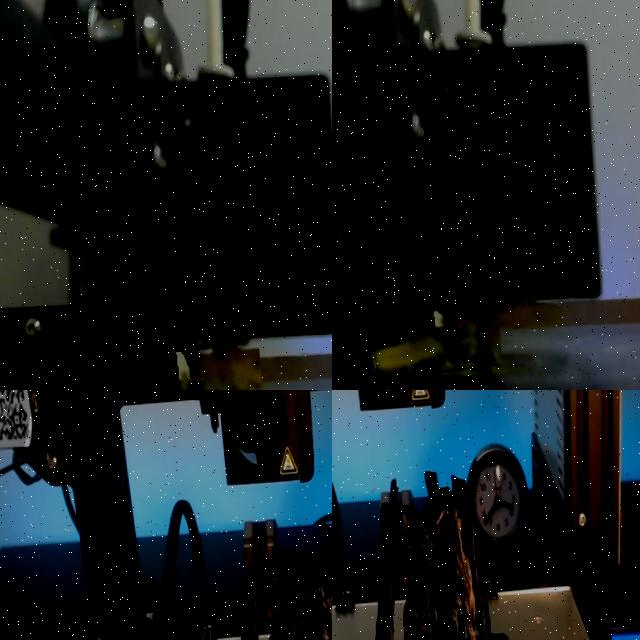spaghetti: (374, 309, 500, 373), (202, 347, 262, 390)
